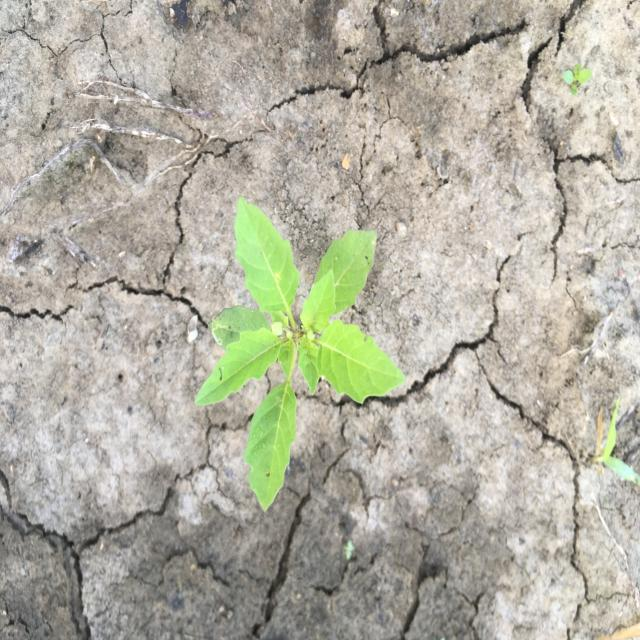CutleafGroundcherry: (194, 194, 407, 514)
